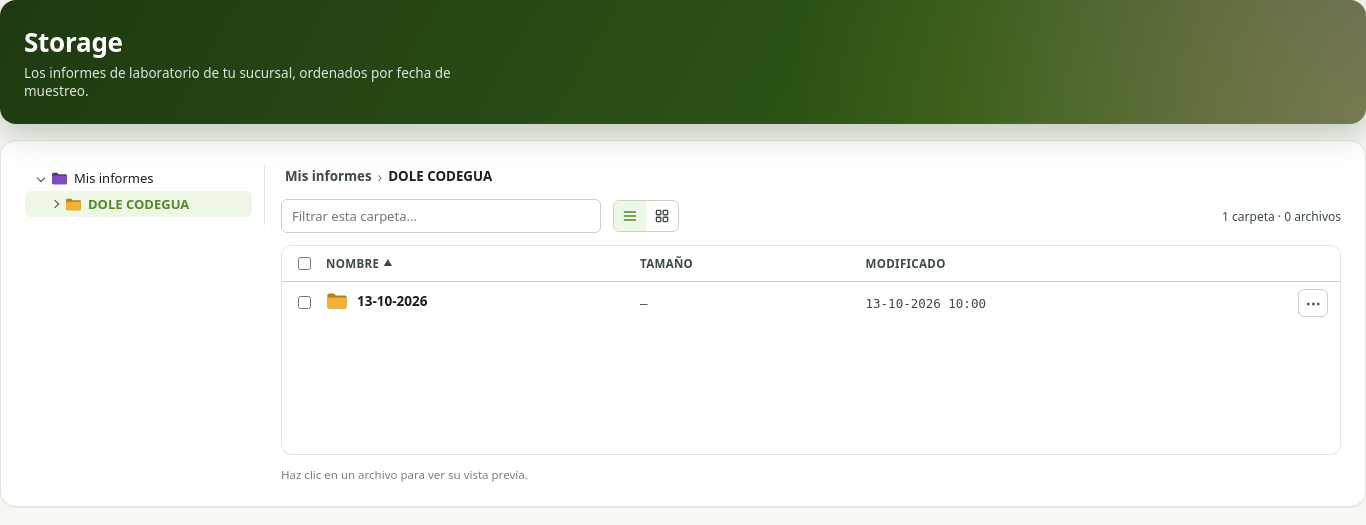
Test case: InformesClienteView › al abrir la fecha muestra el PDF con su descarga
Click the button "13-10-2026".
click(377, 301)  # box [326,291,428,311]
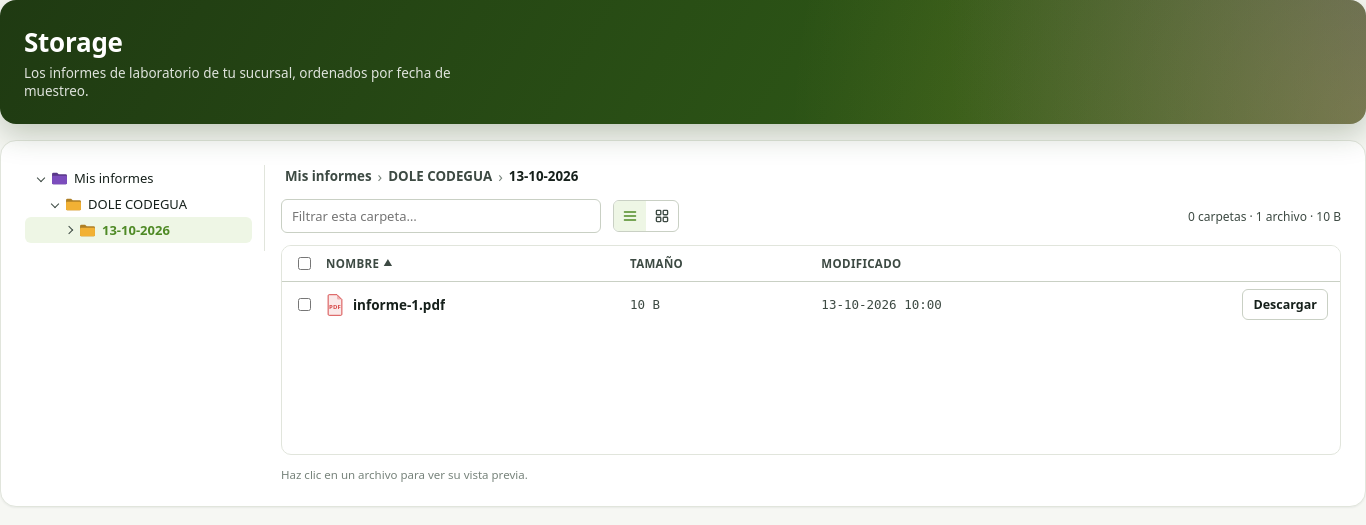
Check: the text "informe-1.pdf" is shown, box [353,296,445,314]
